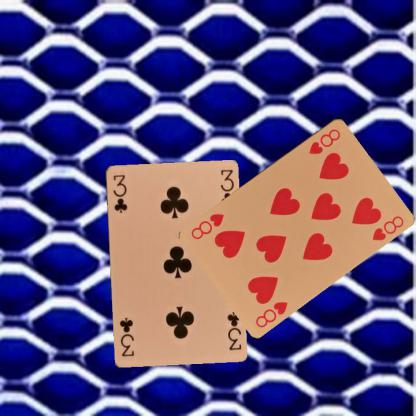3c: (224, 308, 243, 352), (110, 172, 128, 214)
8h: (252, 298, 290, 329), (306, 126, 342, 156)
